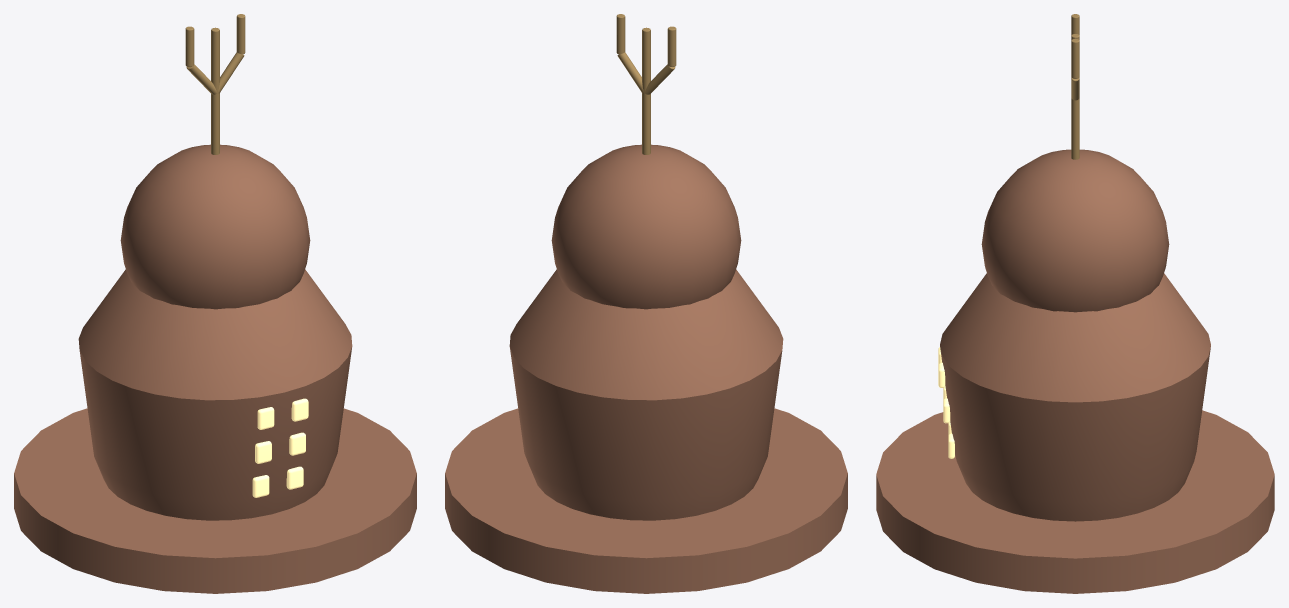
The picture shows the model from 3 angles, left to right: view 1: azimuth 30°, elevation 25°; view 2: azimuth 150°, elevation 25°; view 3: azimuth 270°, elevation 25°; orthographic projection.
Visible parts, largest first — view 1: Bulb shaped chamber, Foundation drum, Stacked rounded vessel, Aerial stem; view 2: Bulb shaped chamber, Foundation drum, Stacked rounded vessel, Aerial stem; view 3: Bulb shaped chamber, Foundation drum, Stacked rounded vessel, Aerial stem.
Part boxes in pixels (bbox=[...]): Bulb shaped chamber: bbox=[78, 269, 352, 520]; Foundation drum: bbox=[14, 408, 416, 593]; Stacked rounded vessel: bbox=[120, 144, 310, 309]; Aerial stem: bbox=[211, 27, 219, 154]; Bulb shaped chamber: bbox=[509, 269, 783, 520]; Foundation drum: bbox=[445, 408, 847, 593]; Stacked rounded vessel: bbox=[551, 144, 741, 309]; Aerial stem: bbox=[642, 27, 650, 154]; Bulb shaped chamber: bbox=[940, 273, 1210, 521]; Foundation drum: bbox=[876, 410, 1274, 593]; Stacked rounded vessel: bbox=[981, 149, 1169, 312]; Aerial stem: bbox=[1071, 34, 1079, 159].
Bounding box in the file's own units: 2.04 × 2.72 × 2.04.
